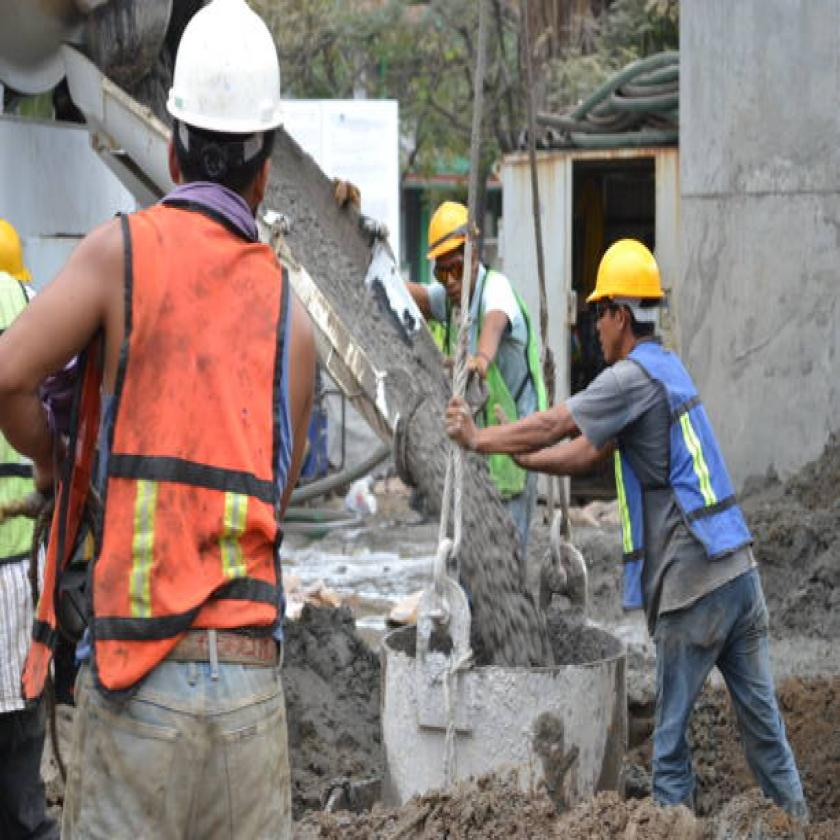Con_casco: (145, 0, 314, 274), (568, 203, 672, 376), (419, 189, 493, 304)
